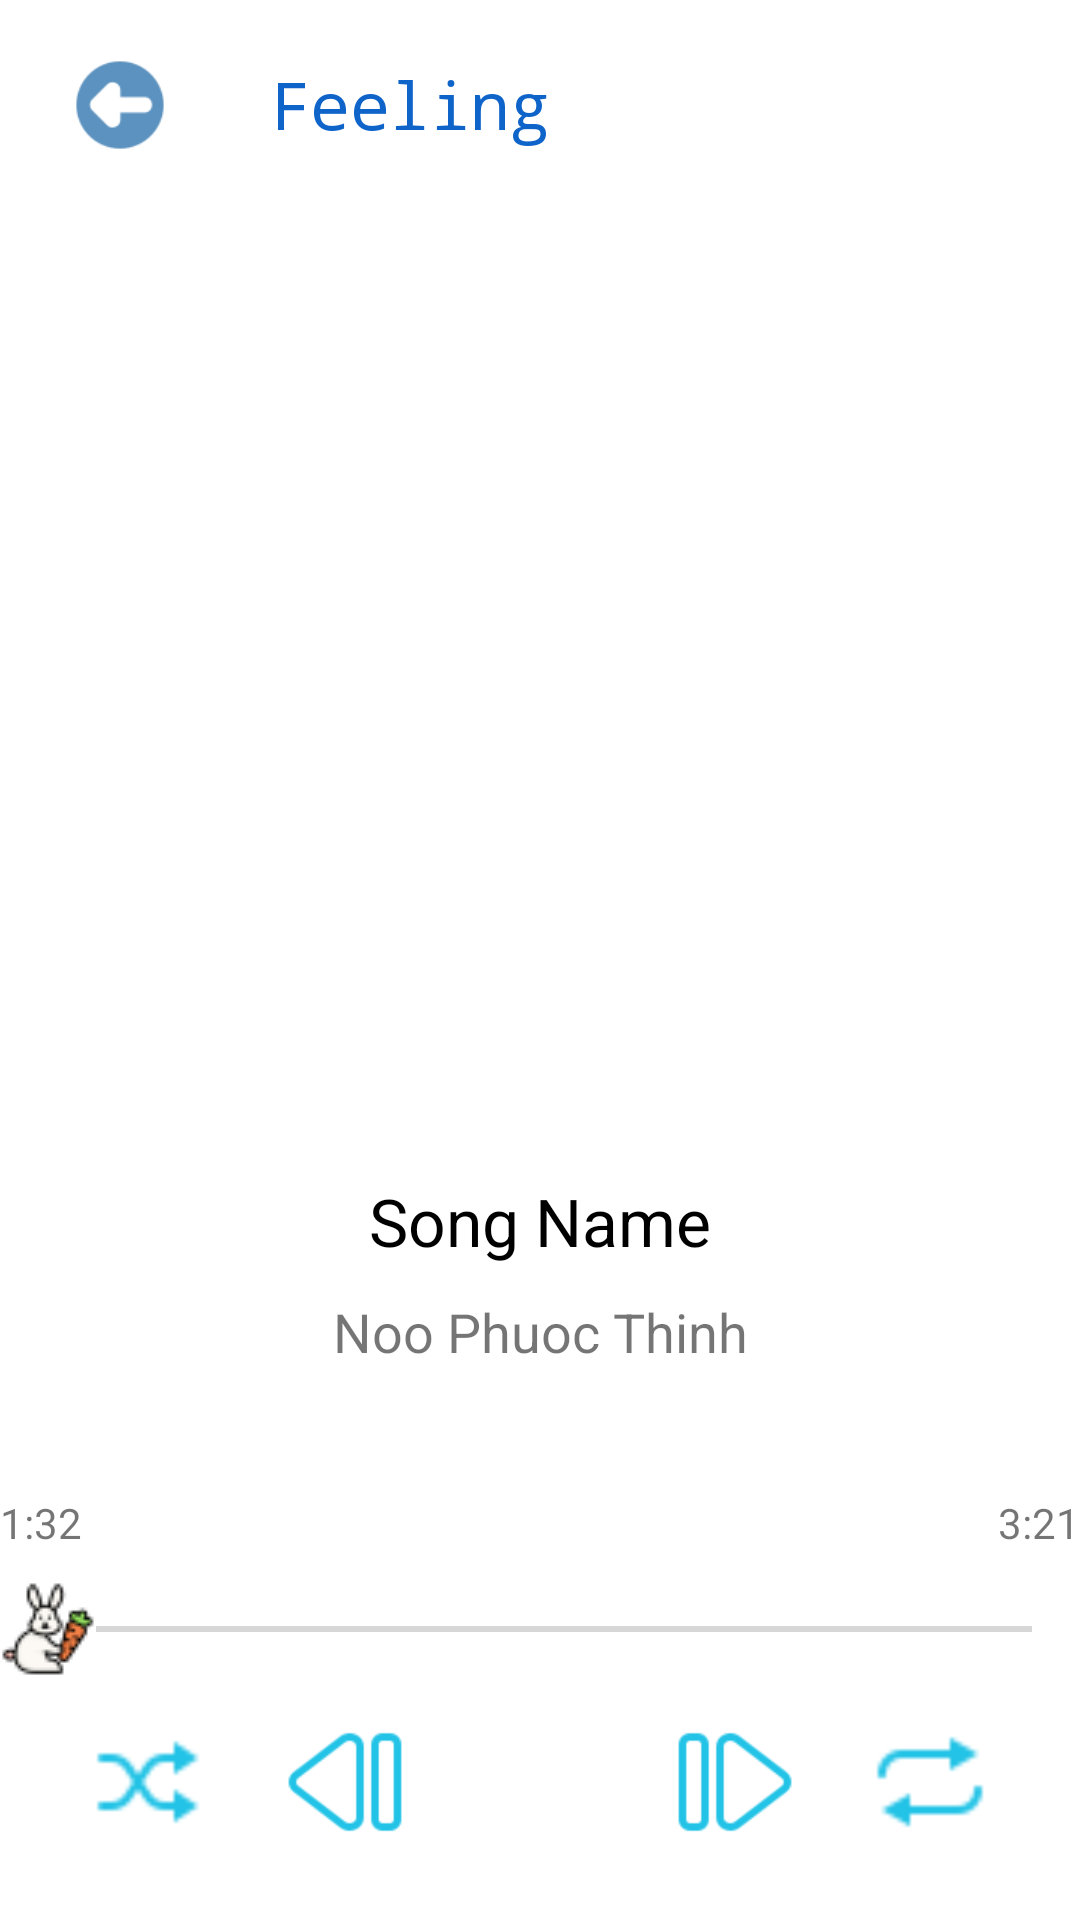

Screen size 1080×1920. Icon name, then its center in pixels as (x=x, y=y):
back: (x=120, y=105)
next: (x=735, y=1782)
previous: (x=345, y=1782)
repeat off: (x=930, y=1782)
shuffle off: (x=148, y=1782)
